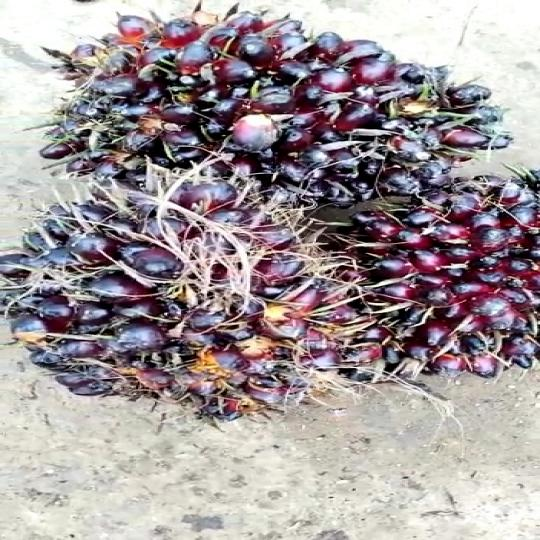kurang masak: (0, 166, 331, 447), (41, 8, 501, 198), (325, 165, 540, 403)
